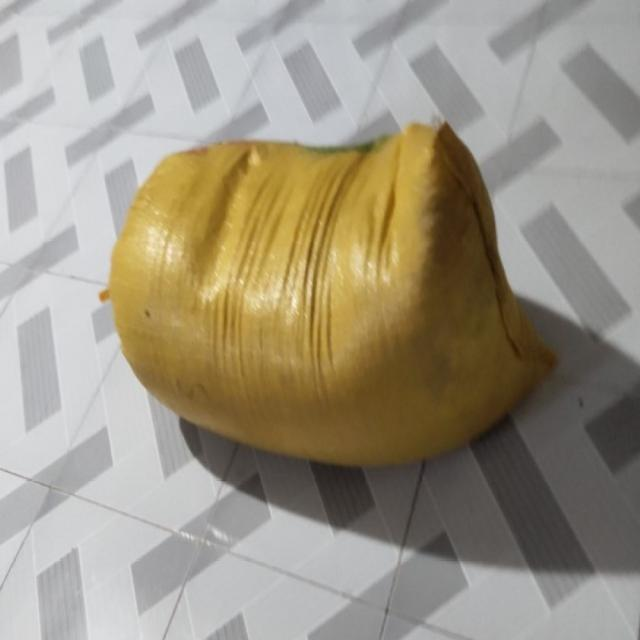gunny_bag: (100, 124, 556, 466)
